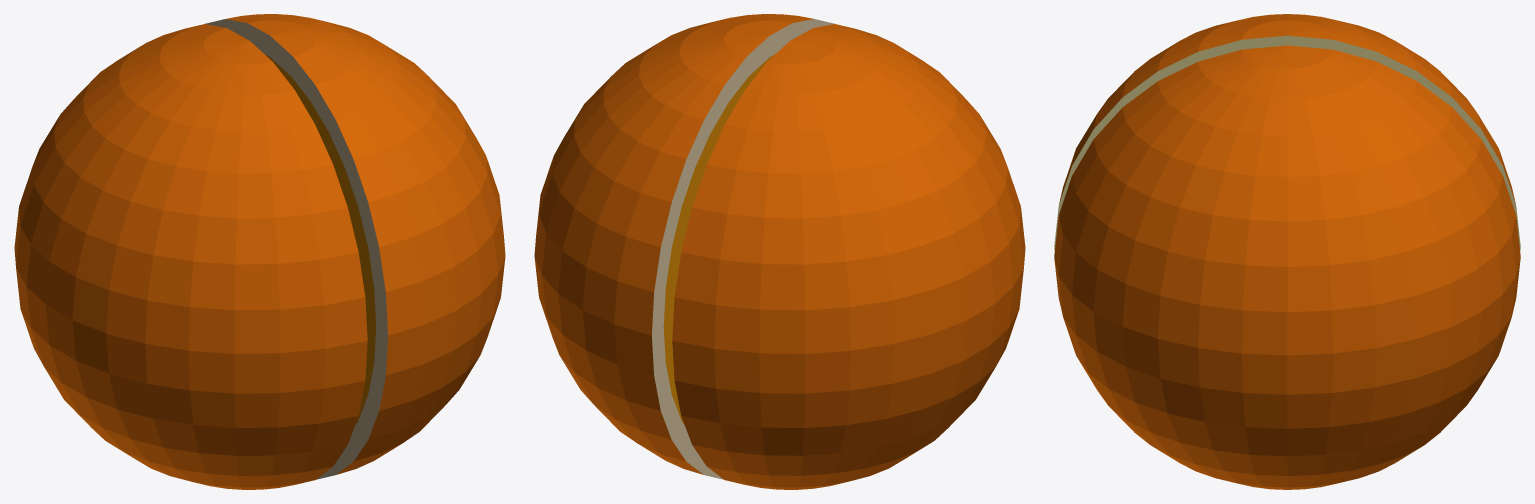
File: ExportedBlenderFBXFile.fbx
3 renders of one model, left to right at view 1: azimuth 30°, elevation 25°; view 2: azimuth 150°, elevation 25°; view 3: azimuth 270°, elevation 25°, orthographic.
Visible parts, largest first — view 1: Orange_Cut_L, Orange_Cut_R; view 2: Orange_Cut_L, Orange_Cut_R; view 3: Orange_Cut_R, Orange_Cut_L.
Boxes of the visible parts, x1=… form: Orange_Cut_L: x1=14, y1=24, x2=367, y2=489; Orange_Cut_R: x1=205, y1=14, x2=505, y2=479; Orange_Cut_L: x1=672, y1=24, x2=1025, y2=489; Orange_Cut_R: x1=534, y1=14, x2=834, y2=479; Orange_Cut_R: x1=1054, y1=45, x2=1520, y2=489; Orange_Cut_L: x1=1054, y1=14, x2=1520, y2=250.
Bounding box in the file's own units: 2.1 × 2 × 2.
